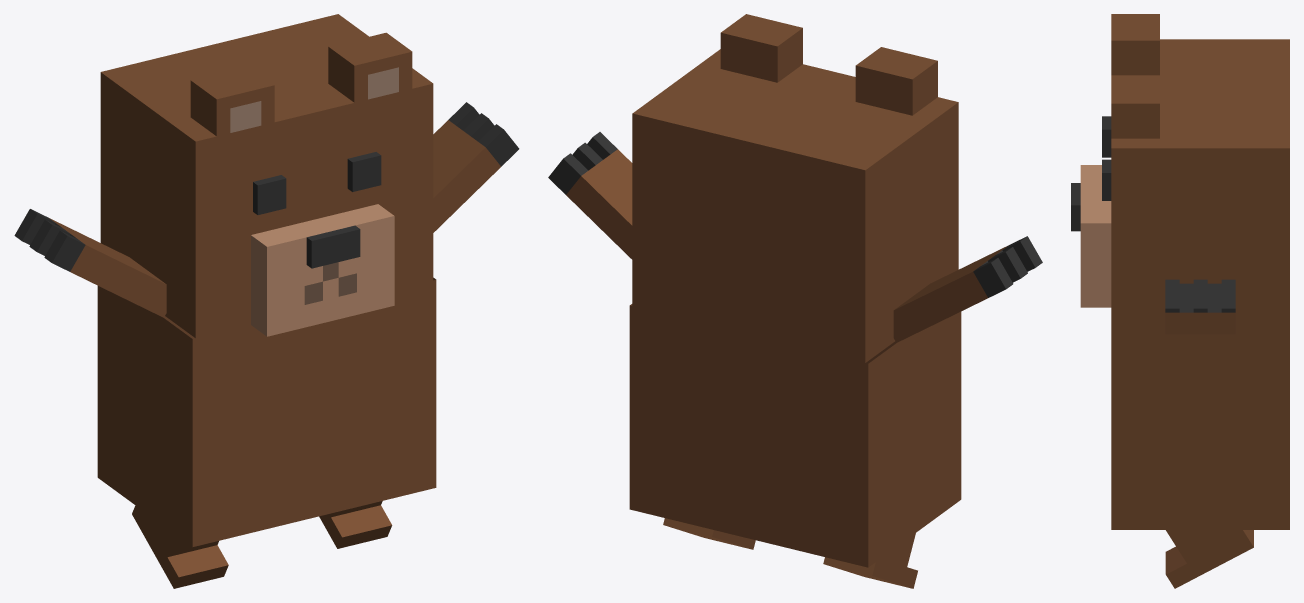
File: Ch_09@Down.FBX
3 renders of one model, left to right at view 1: azimuth 30°, elevation 25°; view 2: azimuth 150°, elevation 25°; view 3: azimuth 270°, elevation 25°, orthographic. The views are drawn at different scales.
Visible parts, largest first — view 1: Ch_09_Head, Ch_09, Ch_09_Hand_L, Ch_09_Hand_R, Ch_09_Leg_L, Ch_09_Eye_01, Ch_09_Leg_R; view 2: Ch_09_Head, Ch_09, Ch_09_Hand_L, Ch_09_Hand_R, Ch_09_Leg_L, Ch_09_Leg_R; view 3: Ch_09_Head, Ch_09, Ch_09_Hand_R, Ch_09_Leg_R, Ch_09_Eye_01.
Boxes of the visible parts, x1=… form: Ch_09_Head: x1=100, y1=14, x2=433, y2=338; Ch_09: x1=97, y1=277, x2=436, y2=546; Ch_09_Hand_L: x1=14, y1=209, x2=166, y2=317; Ch_09_Hand_R: x1=433, y1=102, x2=519, y2=232; Ch_09_Leg_L: x1=132, y1=505, x2=228, y2=588; Ch_09_Eye_01: x1=253, y1=152, x2=381, y2=214; Ch_09_Leg_R: x1=319, y1=501, x2=392, y2=548; Ch_09_Head: x1=632, y1=14, x2=958, y2=362; Ch_09: x1=629, y1=304, x2=961, y2=567; Ch_09_Hand_L: x1=893, y1=236, x2=1042, y2=342; Ch_09_Hand_R: x1=548, y1=132, x2=632, y2=259; Ch_09_Leg_L: x1=823, y1=533, x2=917, y2=588; Ch_09_Leg_R: x1=663, y1=518, x2=755, y2=549; Ch_09_Head: x1=1071, y1=14, x2=1289, y2=332; Ch_09: x1=1111, y1=333, x2=1289, y2=529; Ch_09_Hand_R: x1=1165, y1=279, x2=1235, y2=334; Ch_09_Leg_R: x1=1165, y1=530, x2=1253, y2=588; Ch_09_Eye_01: x1=1102, y1=116, x2=1111, y2=200.
Size of the model in its own units: 12.39 by 12.97 by 5.34.
